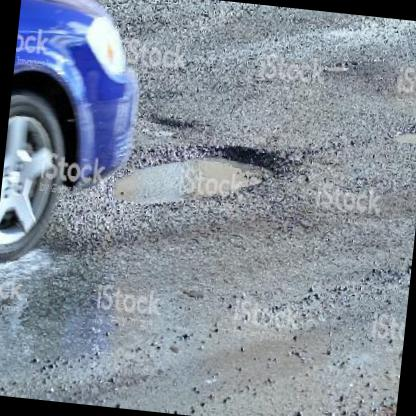pothole: (105, 128, 292, 224), (390, 122, 416, 145)
